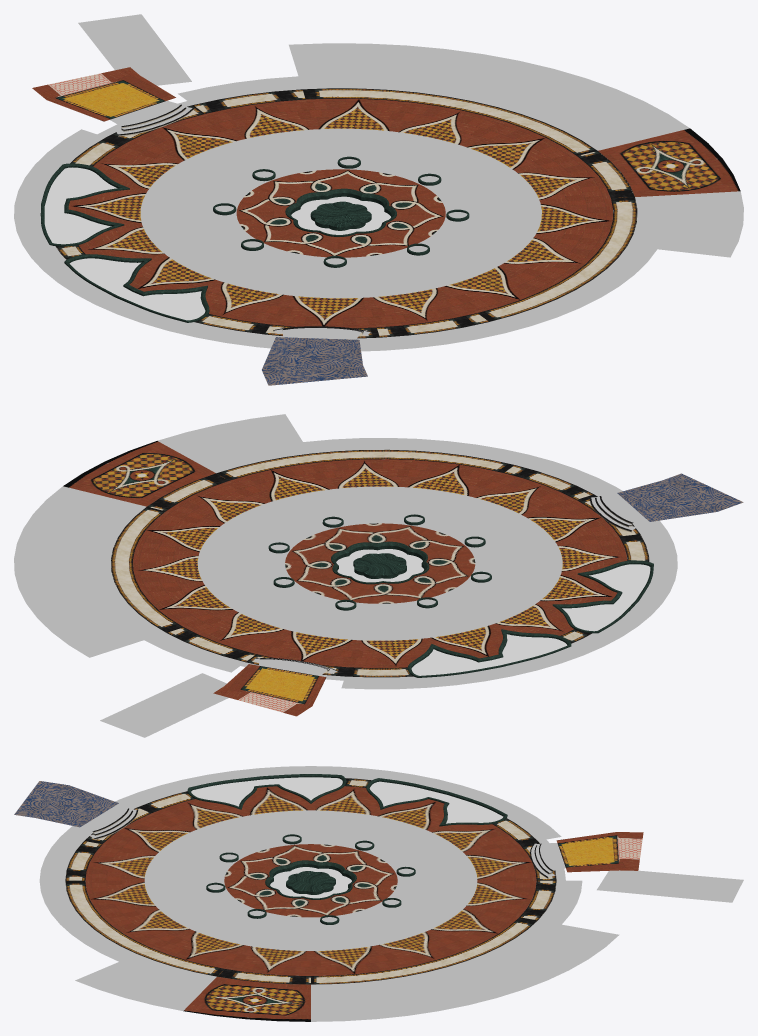
File: Floor.fbx
3 views of the same model, one above another, from view 1: azimuth 30°, elevation 25°; view 2: azimuth 150°, elevation 25°; view 3: azimuth 270°, elevation 25° (orthographic). The views are drawn at different scales.
Parts seen in each view (by area): view 1: Floor_MainArea, Water01, FountainWindow, FountainMid, Water02; view 2: Floor_MainArea, Water01, FountainWindow, FountainMid, Water02; view 3: Floor_MainArea, Water01, FountainWindow, FountainMid, Water02.
Part boxes in pixels (left/top/right/bottom): Floor_MainArea: left=14, top=14, right=743, bottom=385; Water01: left=44, top=167, right=205, bottom=320; FountainWindow: left=40, top=163, right=209, bottom=322; FountainMid: left=285, top=188, right=396, bottom=236; Water02: left=291, top=196, right=390, bottom=234; Floor_MainArea: left=14, top=414, right=743, bottom=737; Water01: left=411, top=564, right=650, bottom=675; FountainWindow: left=407, top=560, right=653, bottom=677; FountainMid: left=331, top=541, right=429, bottom=584; Water02: left=336, top=549, right=423, bottom=582; Floor_MainArea: left=14, top=766, right=743, bottom=1021; Water01: left=191, top=777, right=503, bottom=823; FountainWindow: left=187, top=774, right=507, bottom=826; FountainMid: left=265, top=860, right=356, bottom=899; Water02: left=270, top=867, right=351, bottom=898.
Bounding box in the file's own units: 41.73 × 0.8823 × 50.31.
